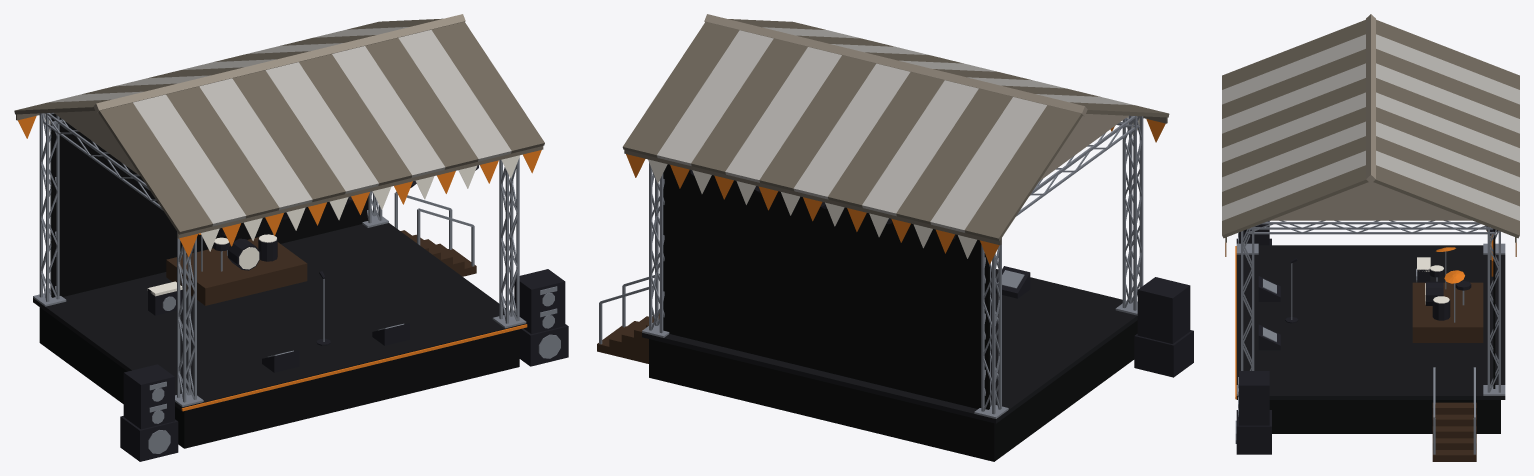
Rendered from SmallStage.fbx.
3 views of the same model, side by side, from view 1: azimuth 30°, elevation 25°; view 2: azimuth 150°, elevation 25°; view 3: azimuth 270°, elevation 25° (orthographic). The views are drawn at different scales.
Visible parts, largest first — view 1: SmallStage_Festival_151619, SmallStage_Festival_70685C, SmallStage_Festival_090A0B, SmallStage_Festival_B6B3AF, SmallStage_Festival_7D828C, SmallStage_Festival_1B1B22, SmallStage_Festival_3D2A1C, SmallStage_Festival_988E81, SmallStage_Festival_ED7E1D, SmallStage_Festival_F2EDE2; view 2: SmallStage_Festival_090A0B, SmallStage_Festival_70685C, SmallStage_Festival_B6B3AF, SmallStage_Festival_151619, SmallStage_Festival_7D828C, SmallStage_Festival_1B1B22, SmallStage_Festival_988E81, SmallStage_Festival_ED7E1D, SmallStage_Festival_F2EDE2, SmallStage_Festival_3D2A1C; view 3: SmallStage_Festival_151619, SmallStage_Festival_70685C, SmallStage_Festival_B6B3AF, SmallStage_Festival_7D828C, SmallStage_Festival_090A0B, SmallStage_Festival_3D2A1C, SmallStage_Festival_988E81, SmallStage_Festival_1B1B22, SmallStage_Festival_ED7E1D, SmallStage_Festival_F2EDE2.
Part boxes in pixels (x1=…): SmallStage_Festival_151619: x1=33, y1=223, x2=526, y2=411; SmallStage_Festival_70685C: x1=14, y1=18, x2=544, y2=238; SmallStage_Festival_090A0B: x1=39, y1=113, x2=519, y2=448; SmallStage_Festival_B6B3AF: x1=48, y1=27, x2=511, y2=226; SmallStage_Festival_7D828C: x1=33, y1=112, x2=560, y2=453; SmallStage_Festival_1B1B22: x1=120, y1=165, x2=568, y2=461; SmallStage_Festival_3D2A1C: x1=166, y1=230, x2=476, y2=305; SmallStage_Festival_988E81: x1=54, y1=14, x2=465, y2=175; SmallStage_Festival_ED7E1D: x1=18, y1=116, x2=541, y2=411; SmallStage_Festival_F2EDE2: x1=39, y1=113, x2=519, y2=296; SmallStage_Festival_090A0B: x1=649, y1=164, x2=1137, y2=461; SmallStage_Festival_70685C: x1=622, y1=19, x2=1169, y2=245; SmallStage_Festival_B6B3AF: x1=657, y1=27, x2=1134, y2=232; SmallStage_Festival_151619: x1=642, y1=269, x2=1137, y2=423; SmallStage_Festival_7D828C: x1=599, y1=115, x2=1143, y2=418; SmallStage_Festival_1B1B22: x1=690, y1=170, x2=1193, y2=377; SmallStage_Festival_988E81: x1=704, y1=14, x2=1128, y2=180; SmallStage_Festival_ED7E1D: x1=626, y1=119, x2=1165, y2=264; SmallStage_Festival_F2EDE2: x1=648, y1=116, x2=1143, y2=258; SmallStage_Festival_3D2A1C: x1=597, y1=313, x2=659, y2=363; SmallStage_Festival_151619: x1=1236, y1=245, x2=1505, y2=399; SmallStage_Festival_70685C: x1=1222, y1=19, x2=1519, y2=242; SmallStage_Festival_B6B3AF: x1=1222, y1=34, x2=1519, y2=259; SmallStage_Festival_7D828C: x1=1235, y1=220, x2=1505, y2=454; SmallStage_Festival_090A0B: x1=1269, y1=229, x2=1500, y2=433; SmallStage_Festival_3D2A1C: x1=1412, y1=282, x2=1483, y2=461; SmallStage_Festival_988E81: x1=1270, y1=14, x2=1471, y2=220; SmallStage_Festival_1B1B22: x1=1236, y1=221, x2=1497, y2=454; SmallStage_Festival_ED7E1D: x1=1225, y1=234, x2=1516, y2=399; SmallStage_Festival_F2EDE2: x1=1417, y1=257, x2=1449, y2=304.
Bounding box in the file's own units: 10.5 × 6.67 × 6.76.
